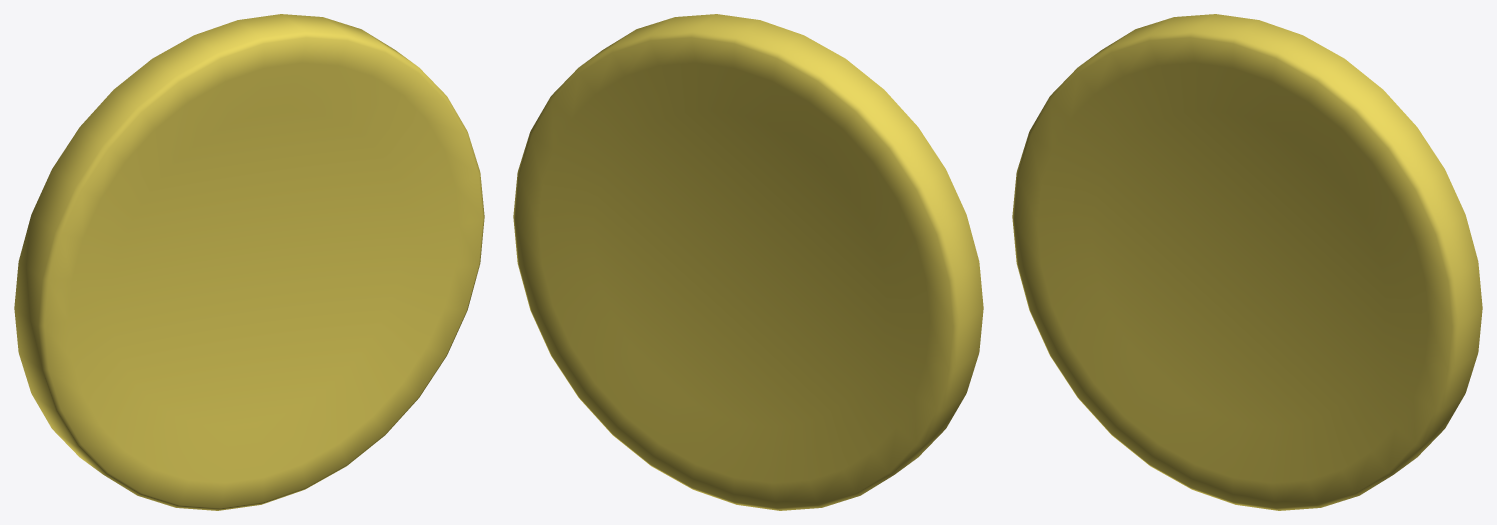
Rendered from coin.fbx.
3 renders of one model, left to right at view 1: azimuth 30°, elevation 25°; view 2: azimuth 150°, elevation 25°; view 3: azimuth 330°, elevation 25°, orthographic.
Visible parts, largest first — view 1: LowPolyCoin; view 2: LowPolyCoin; view 3: LowPolyCoin.
Boxes of the visible parts, x1,y1,x2,y2 form: LowPolyCoin: (14,14,484,510); LowPolyCoin: (513,14,983,510); LowPolyCoin: (1012,14,1482,510).
Bounding box in the file's own units: 180 × 180 × 20.05.
